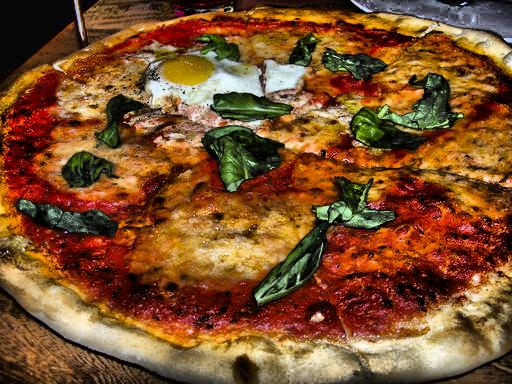pizza: (10, 8, 512, 383)
